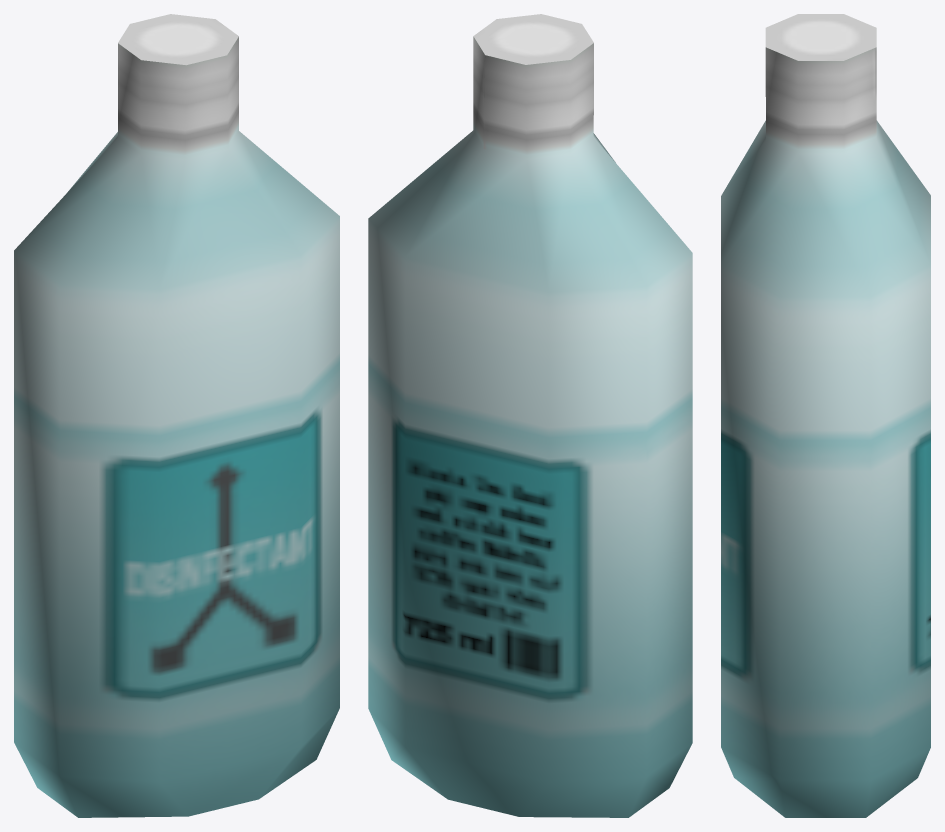
The model's file is DisinfectantWaterBottleSM.fbx.
3 views of the same model, side by side, from view 1: azimuth 30°, elevation 25°; view 2: azimuth 150°, elevation 25°; view 3: azimuth 270°, elevation 25° (orthographic).
Parts seen in each view (by area): view 1: Disinfectant001; view 2: Disinfectant001; view 3: Disinfectant001.
Part boxes in pixels (<box>): Disinfectant001: <box>14,14,339,817</box>; Disinfectant001: <box>368,14,692,817</box>; Disinfectant001: <box>721,14,930,817</box>.
Bounding box in the file's own units: 6.01 × 15.1 × 3.98.
